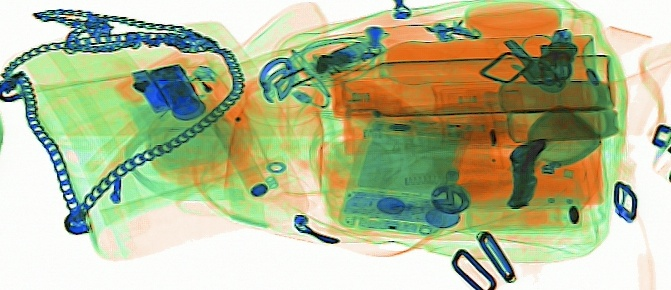lighter: (186, 63, 251, 135)
pressure: (368, 33, 599, 88)
